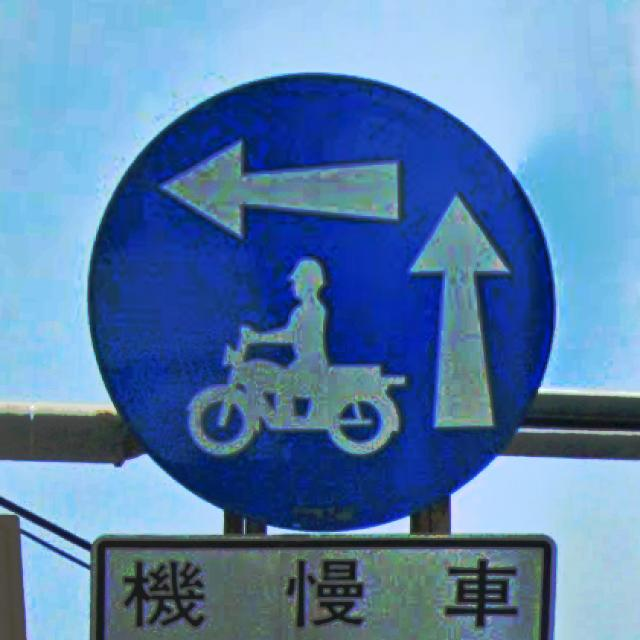twostageturn: (87, 75, 556, 530)
